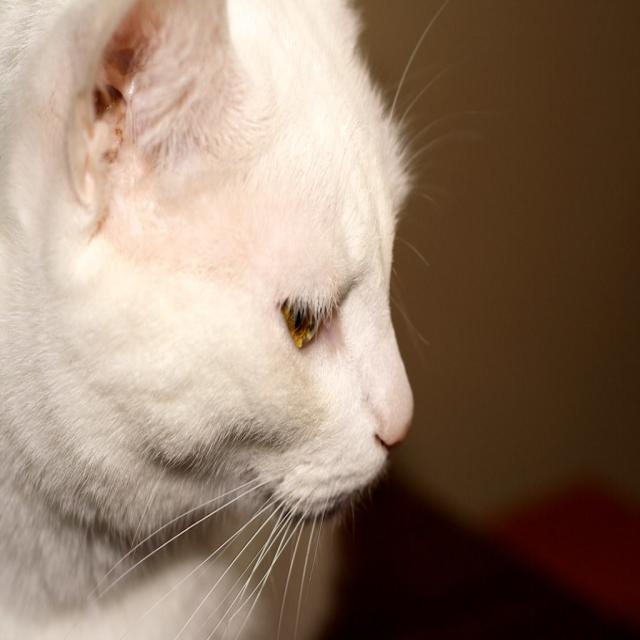Cat: (0, 0, 446, 638)
